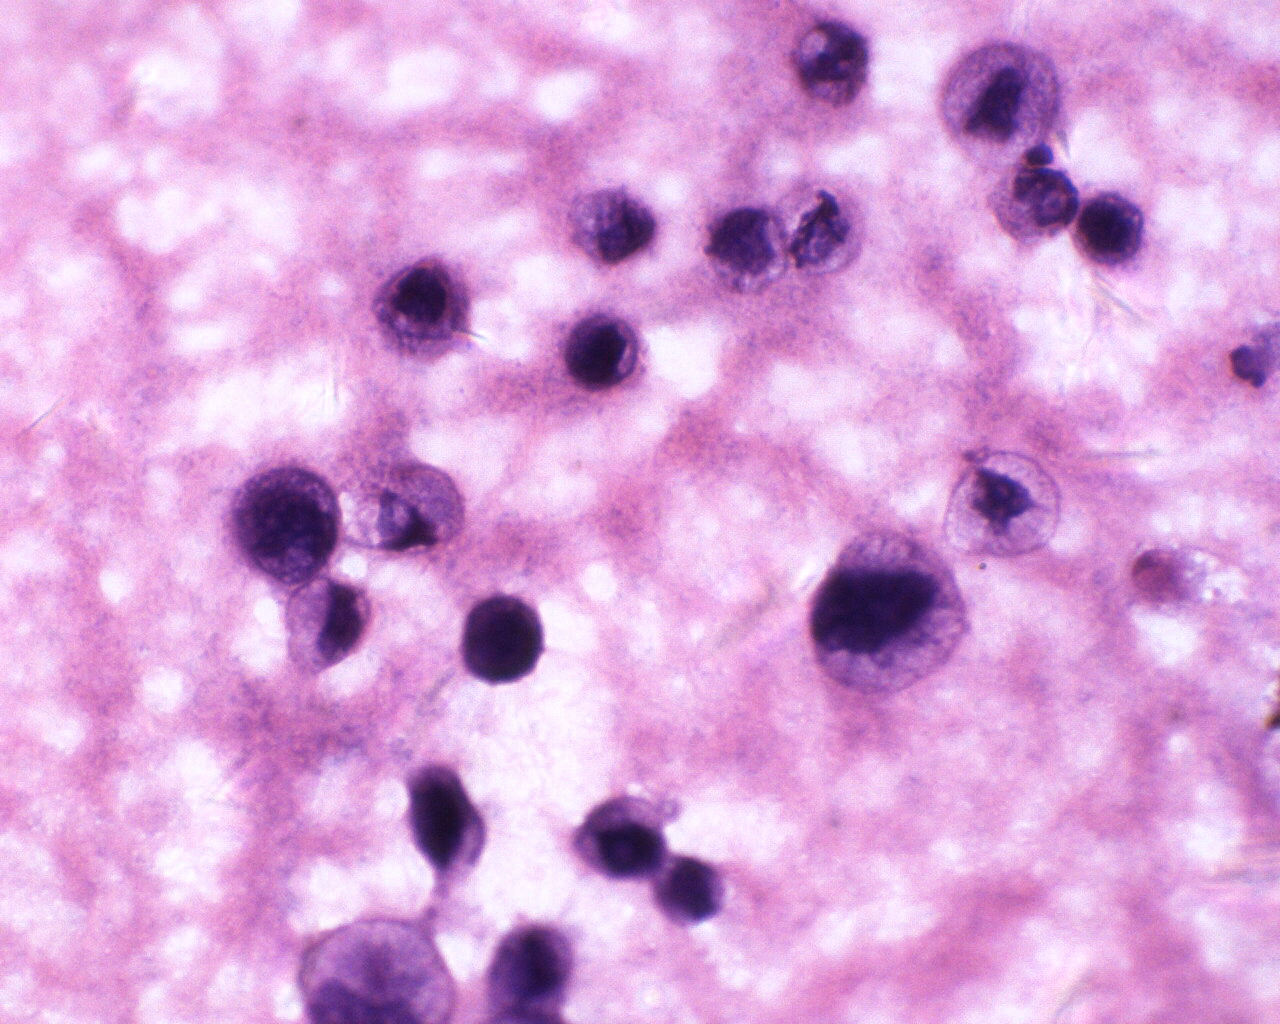ab: (807, 521, 971, 698), (224, 459, 345, 586), (945, 451, 1073, 564), (935, 41, 1066, 152), (371, 255, 474, 364), (573, 788, 673, 886), (456, 589, 553, 691), (280, 572, 368, 678), (702, 200, 791, 294), (559, 307, 645, 391), (1074, 189, 1151, 273), (655, 848, 725, 928)
